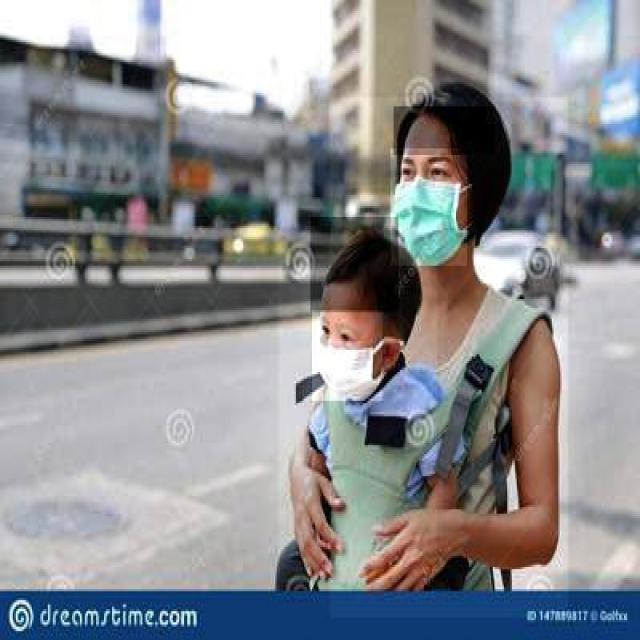face_mask: (390, 148, 469, 268), (312, 310, 382, 401)
hand_noglove: (356, 503, 450, 591), (286, 457, 348, 586)
head_nohelmet: (311, 217, 398, 312), (394, 106, 496, 155)
person: (330, 98, 570, 620), (278, 206, 438, 585)
